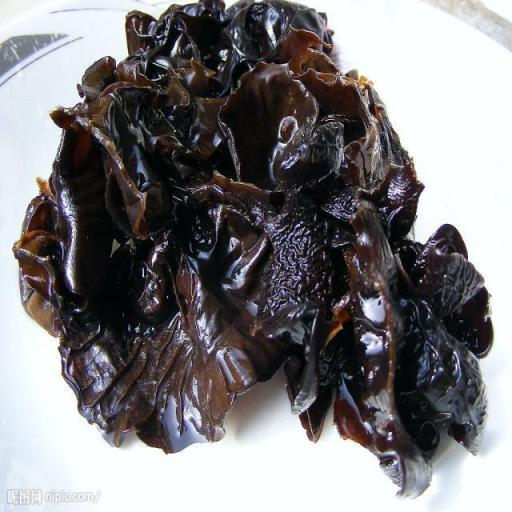Wood Ear Mushroom: (16, 2, 494, 503)
